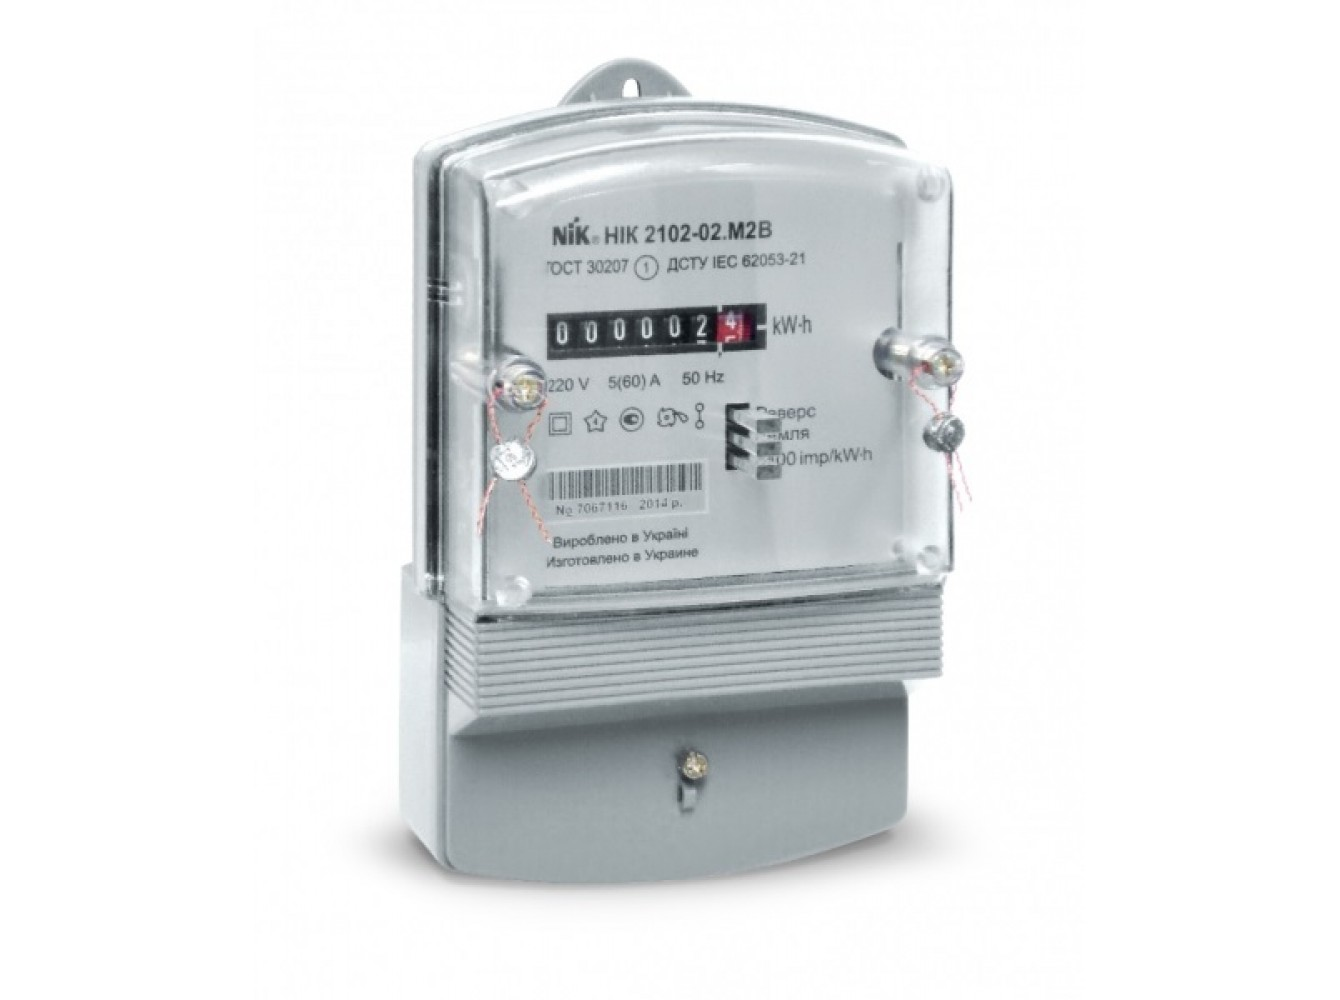counter: (452, 77, 963, 866)
counter_screen: (541, 297, 776, 364)
